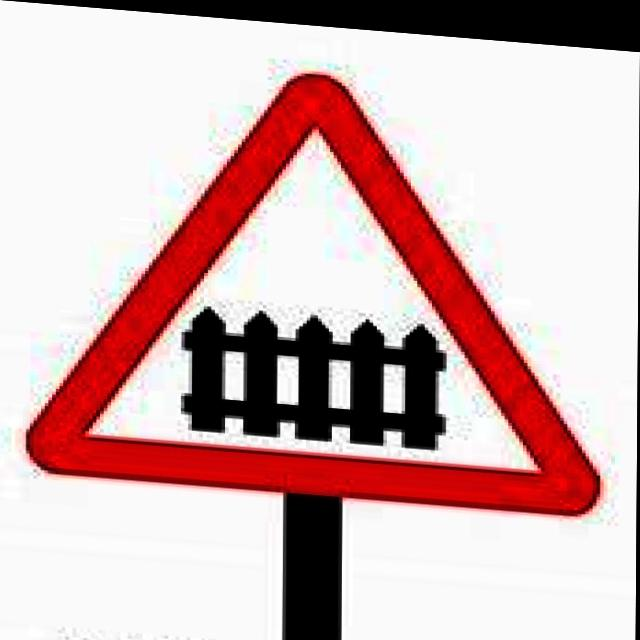GUARDED_LEVEL_CROSSING: (19, 47, 608, 509)
